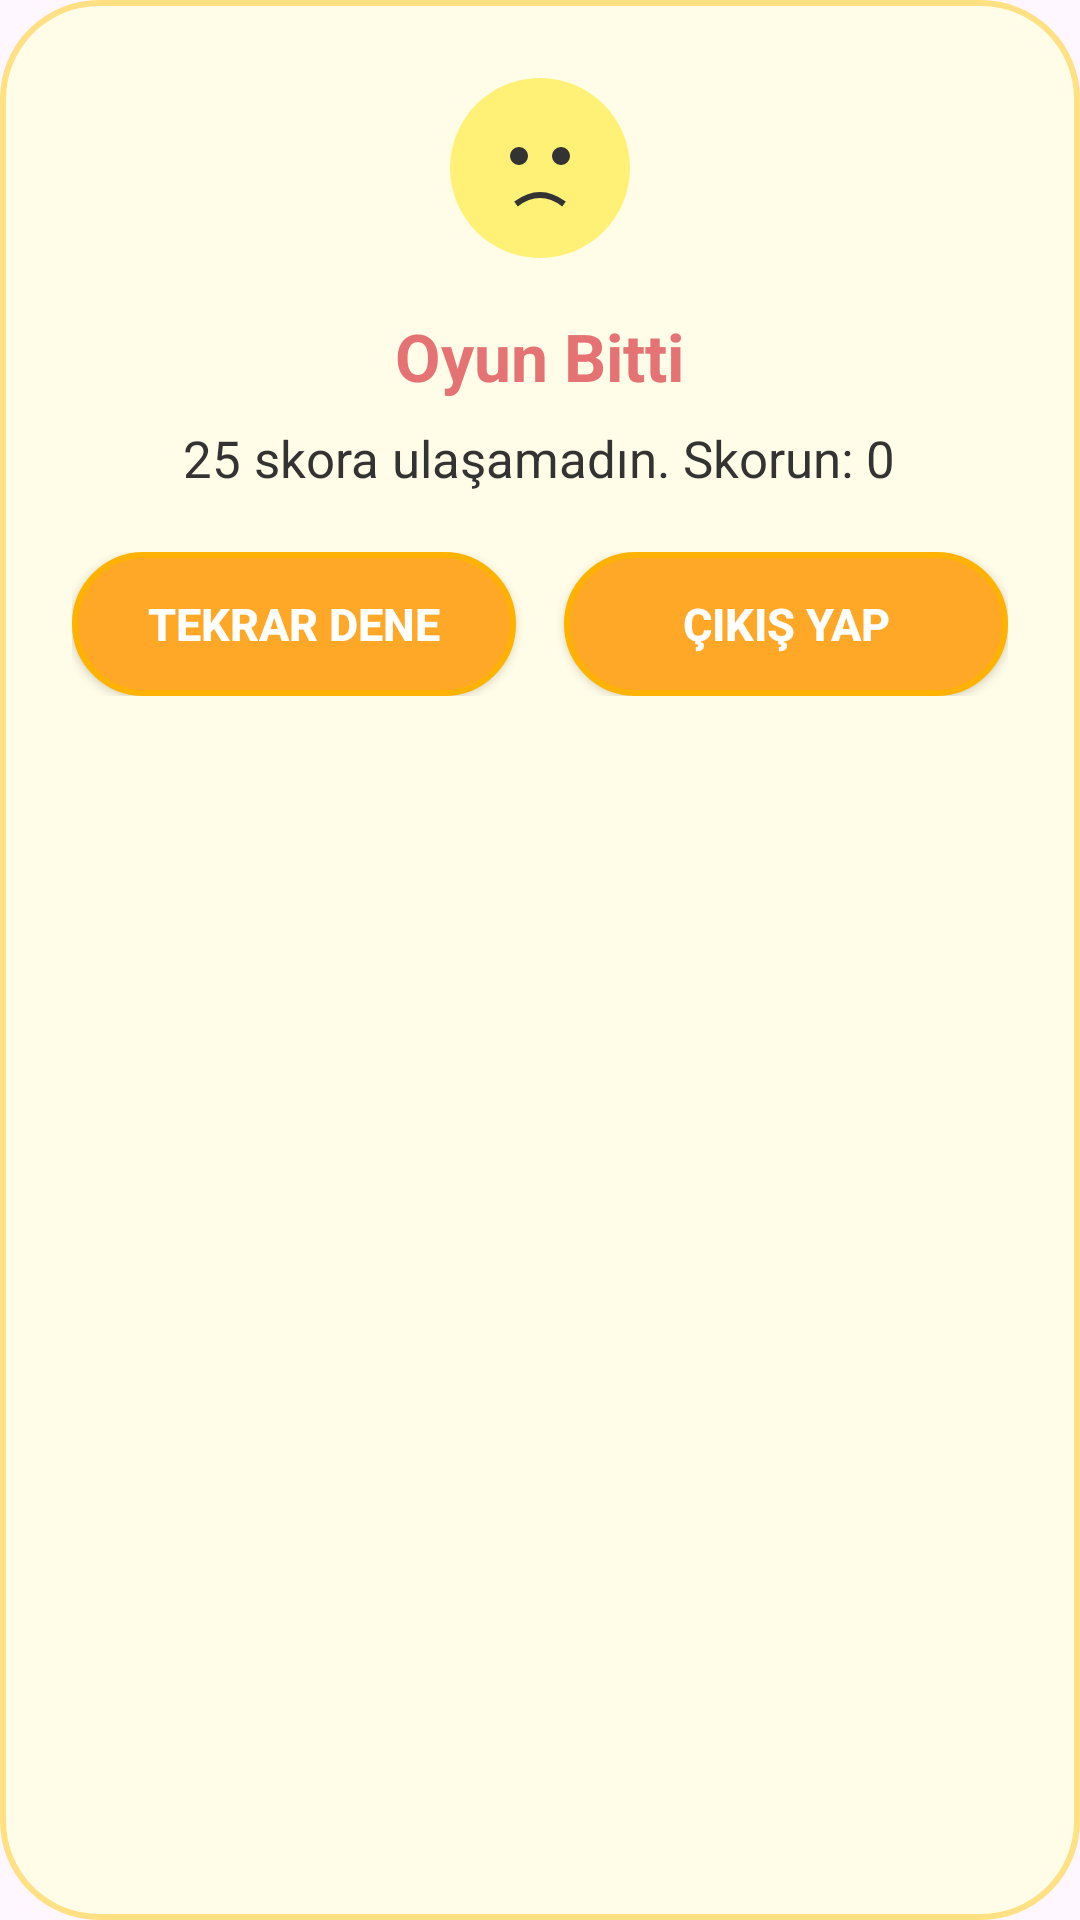

Screen size 1080w x 1920h. Icon name, then its box in pixels as (x1, y1, x2, y2):
sad: (450, 78, 630, 258)
